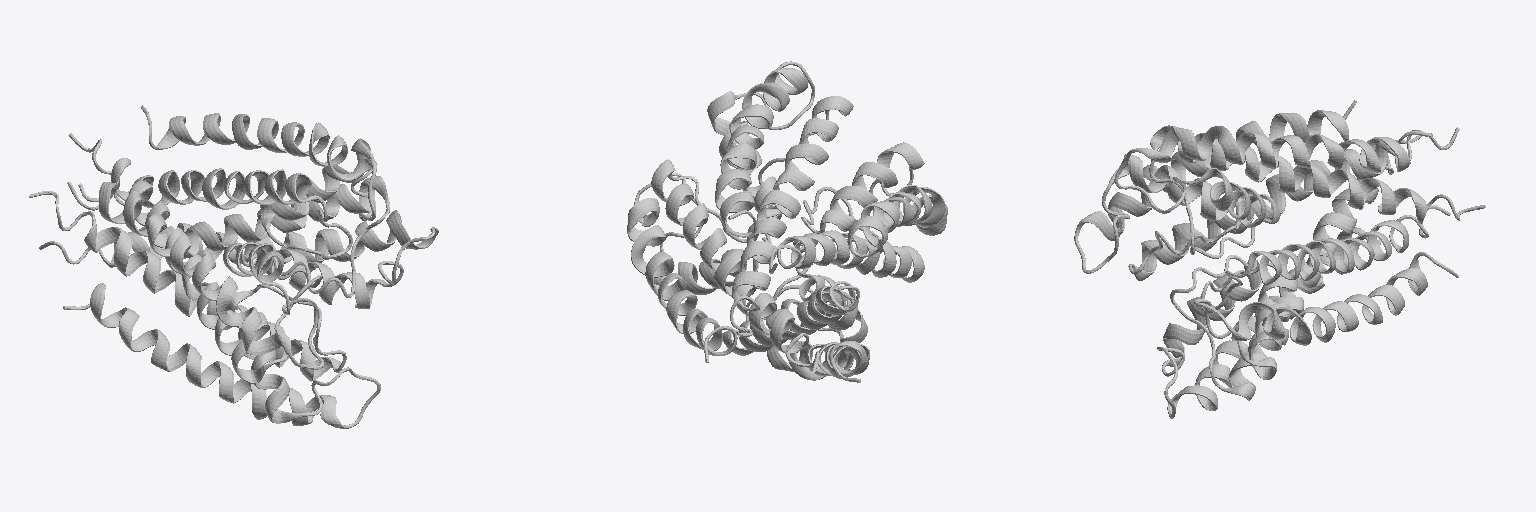
The model's file is ribbon-test2-reduced.obj.
3 views of the same model, side by side, from view 1: azimuth 30°, elevation 25°; view 2: azimuth 150°, elevation 25°; view 3: azimuth 270°, elevation 25° (orthographic).
Bounding box in the file's own units: 1.32 × 1.16 × 1.5.